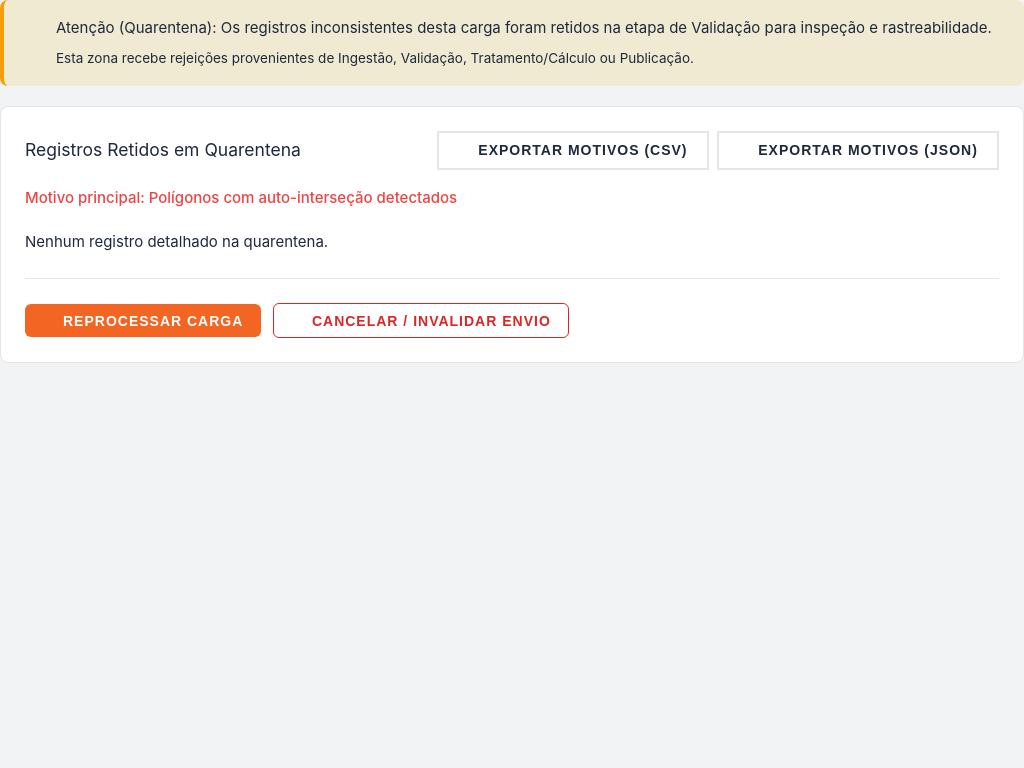
Scenario: Etapas do Processo de Carga (Pipeline, Quarentena, Publicação e Auditoria) › Etapa de Quarentena e Resolução de Erros (ProcessStageQuarentena) › modal de cancelamento e invalidação exige justificativa textual e alerta sobre a guarda do arquivo original
Click the button with test id "btn-open-cancel-modal".
click(421, 321)  # box [273,303,569,338]
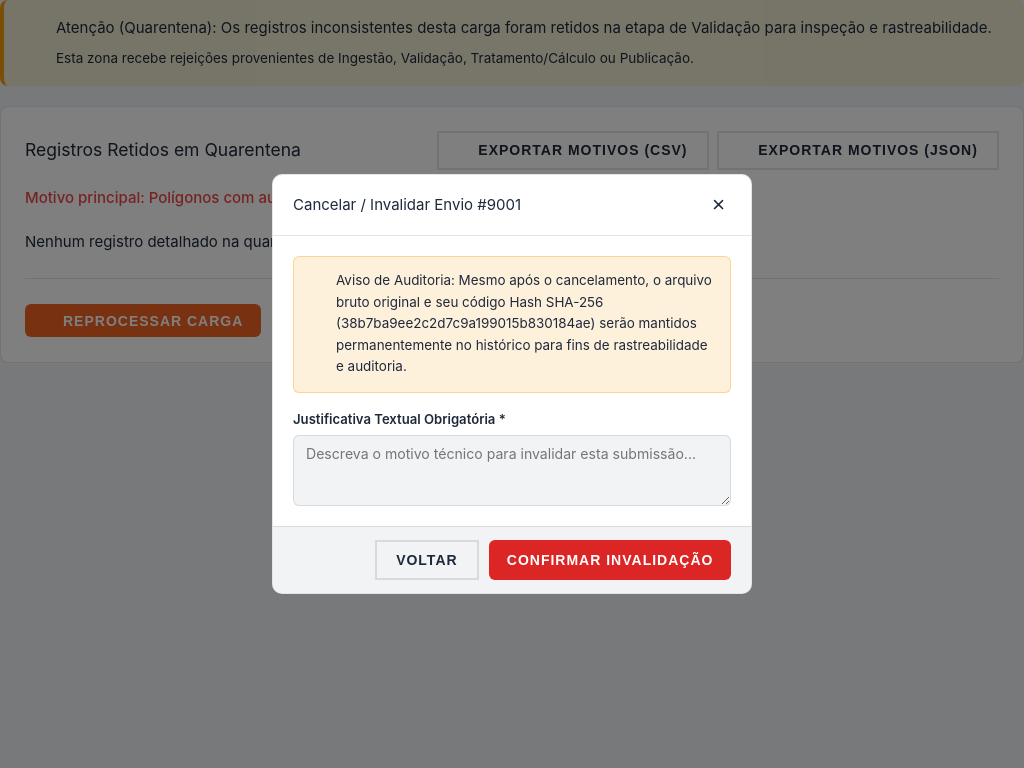
Now the element with test id "cancel-modal" is shown
Now the element with test id "hash-retention-warning" shows "38b7ba9ee2c2d7c9a199015b830184ae", box [336,294,603,332]
Click the button with test id "btn-confirm-cancel".
click(610, 560)  # box [489,540,731,580]
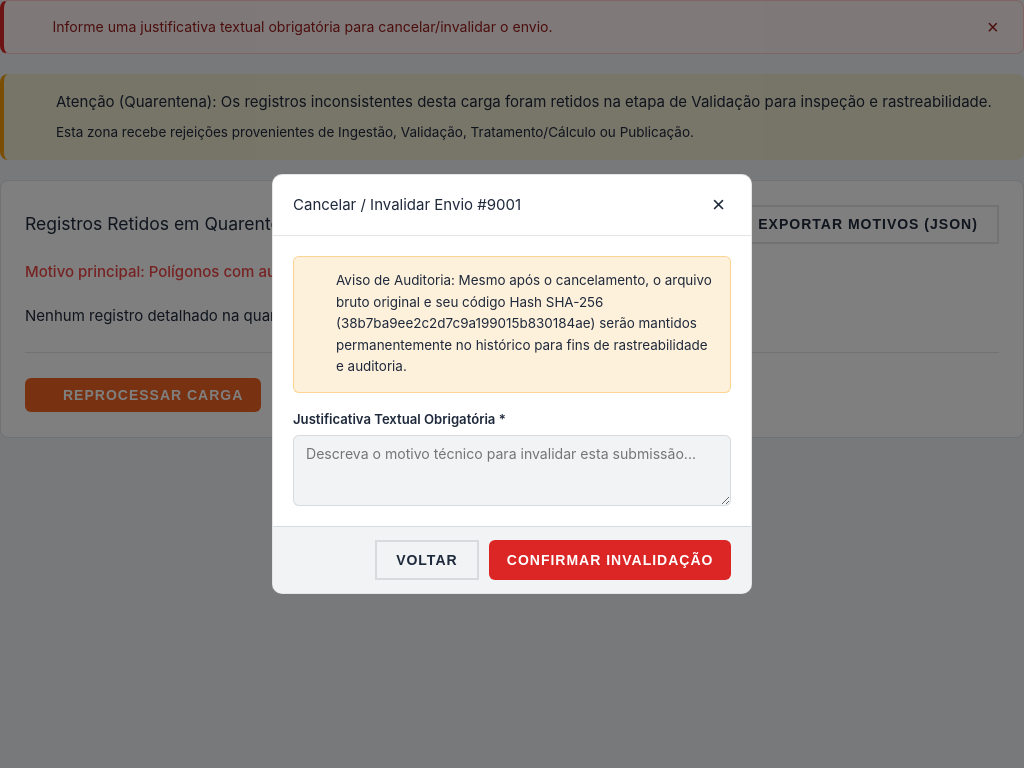
Now the message with test id "quarantine-error-toast" shows "justificativa textual obrigatória", box [52,18,553,35]
